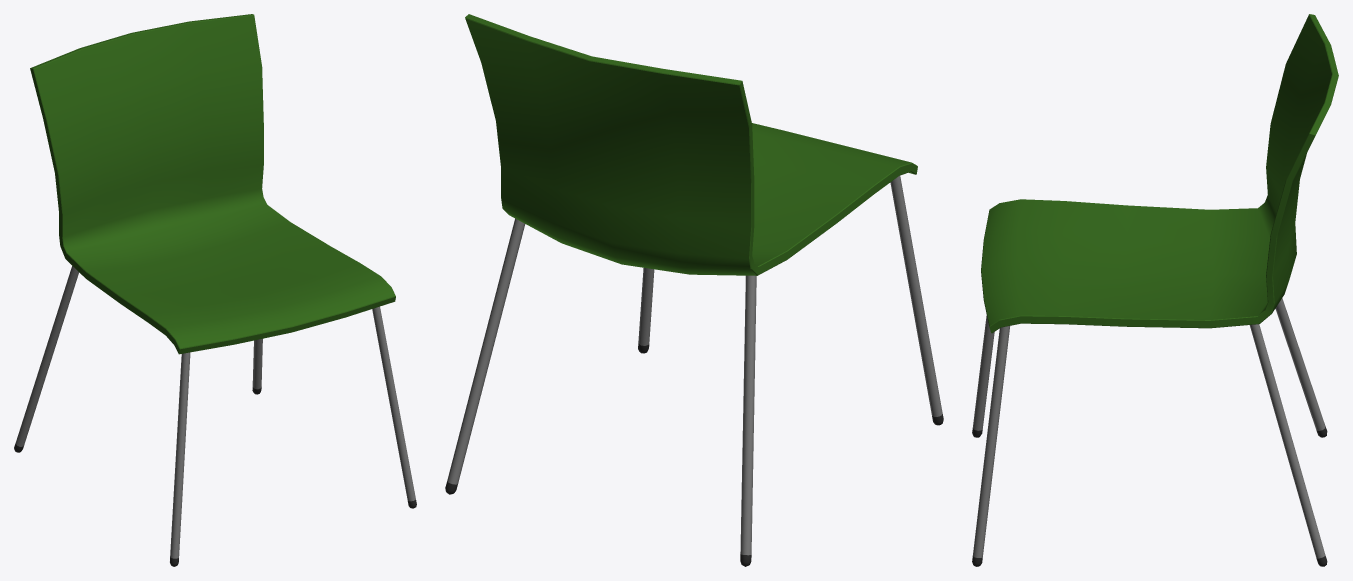
File: Chair 1.FBX
3 views of the same model, side by side, from view 1: azimuth 30°, elevation 25°; view 2: azimuth 150°, elevation 25°; view 3: azimuth 270°, elevation 25° (orthographic). The views are drawn at different scales.
Parts seen in each view (by area): view 1: chair_type01_013; view 2: chair_type01_013; view 3: chair_type01_013.
Boxes of the visible parts, bbox=[...] form: chair_type01_013: bbox=[14, 14, 416, 566]; chair_type01_013: bbox=[445, 14, 943, 566]; chair_type01_013: bbox=[972, 14, 1338, 566].
Bounding box in the file's own units: 54.47 × 81.83 × 63.34.
